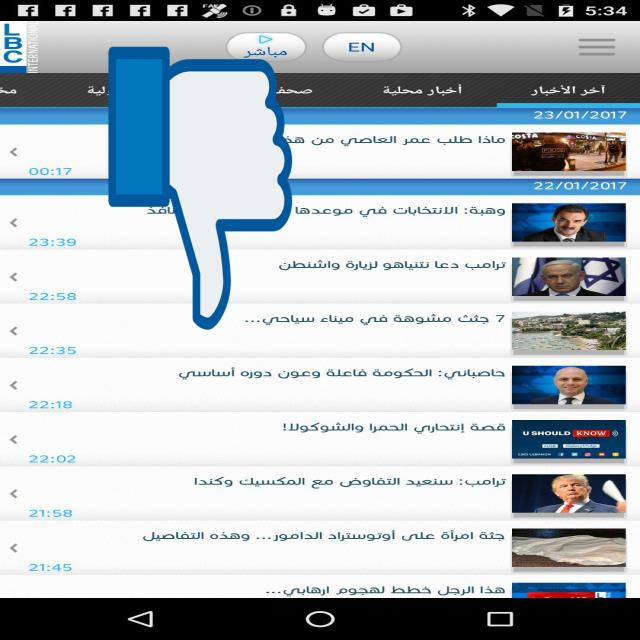obstruction: (109, 41, 292, 336)
